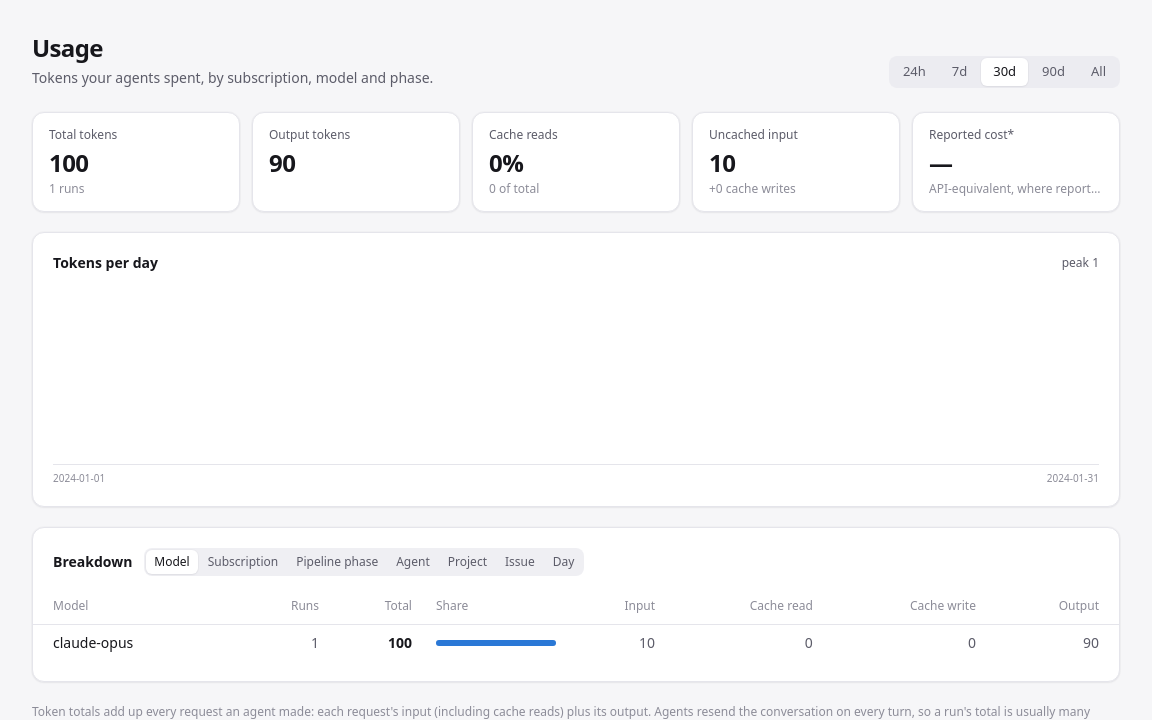
Test: UsagePage › a failed uncached tab keeps the previous table mounted instead of collapsing the page
The width and height of the screenshot is (1152, 720).
Expected: the text "claude-opus" is shown, [33, 624, 237, 661]
What coordinates should you click on to do the following:
click the button "Subscription"
I would click on:
 (243, 562)
Its box is [200, 550, 286, 574].
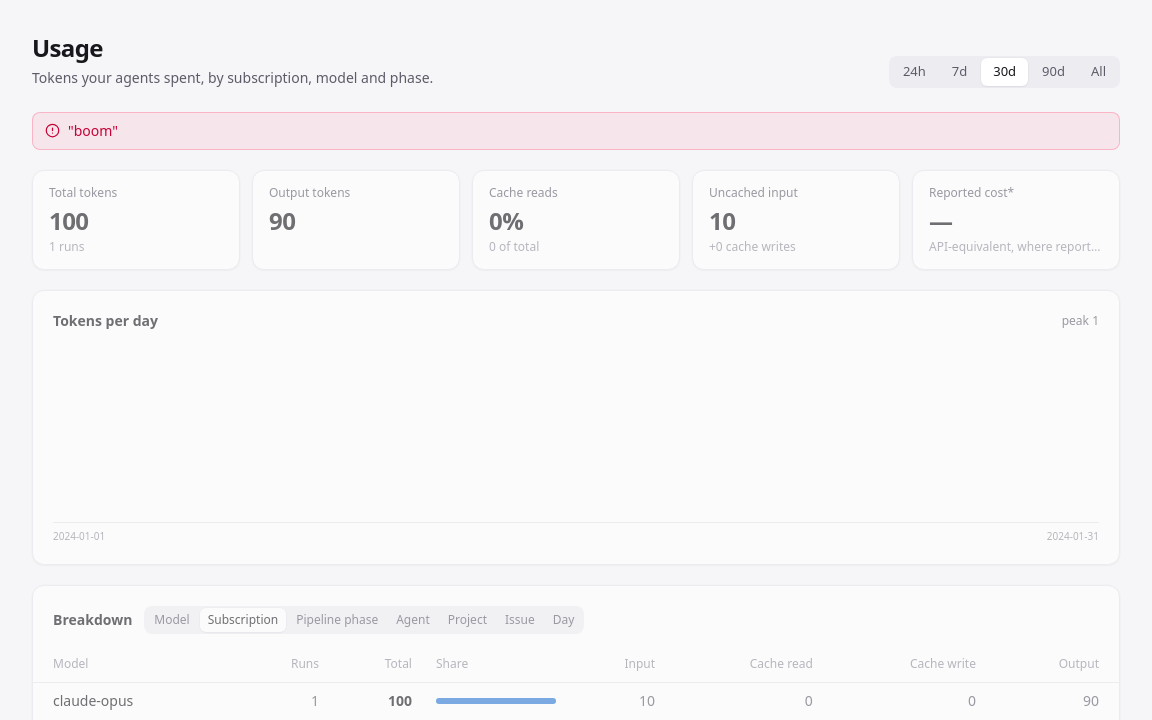
Expected: the text "claude-opus" is shown, [33, 682, 237, 719]
Expected: the text "\"boom\"" is shown, [68, 121, 118, 140]
